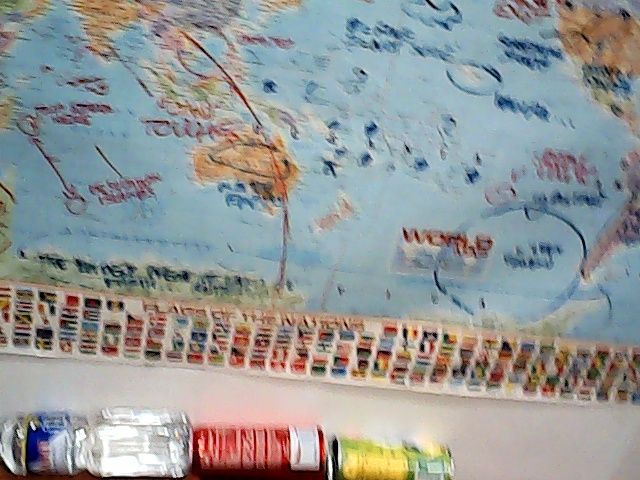Cola: (194, 411, 335, 480)
Pine Juice: (324, 438, 464, 479)
Summit Water: (1, 398, 195, 480)
